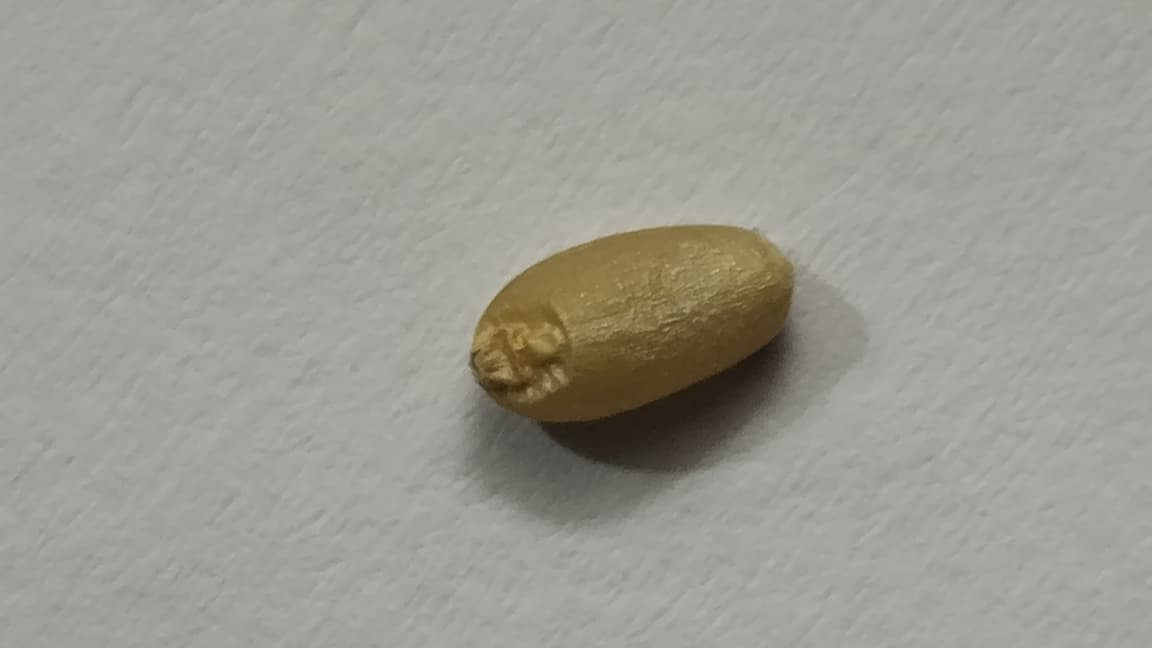healthy: (471, 226, 792, 417)
